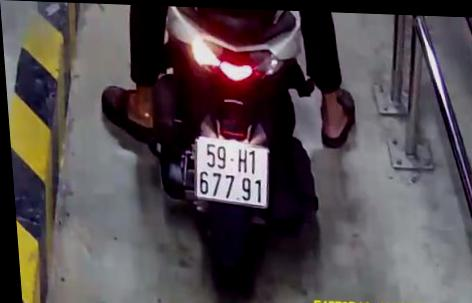License_Plate: (183, 129, 284, 213)
